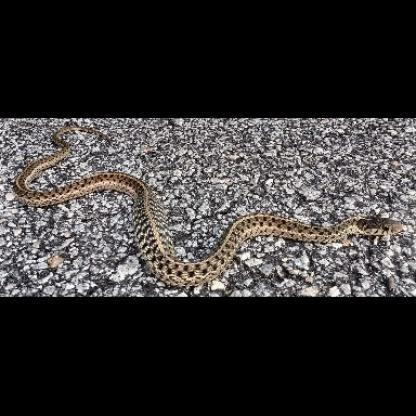Snake: (10, 124, 403, 283)
